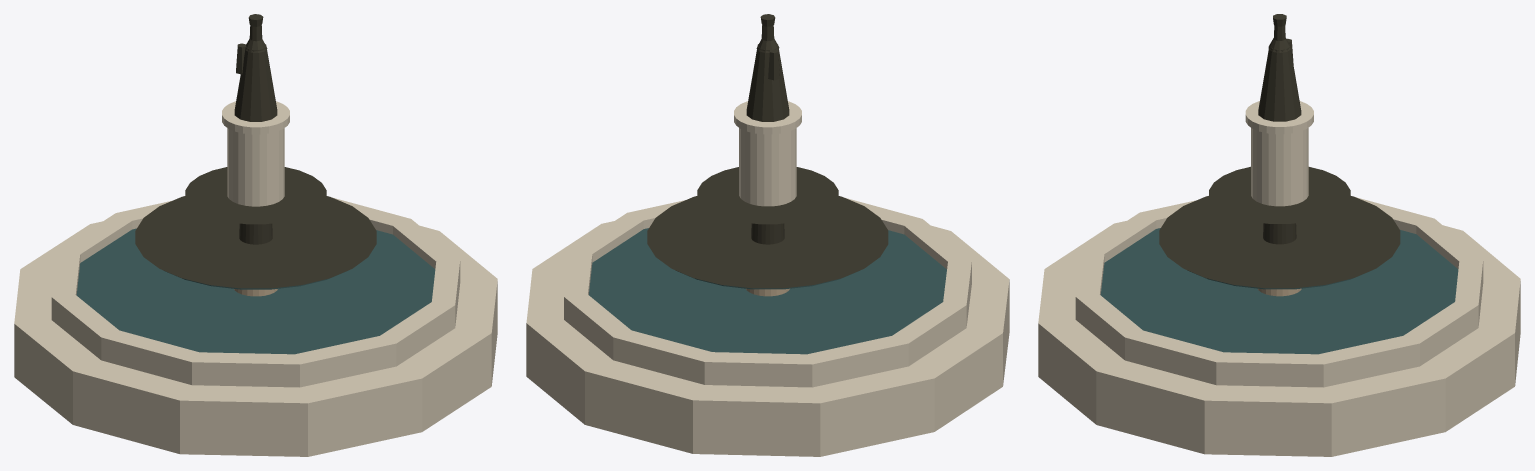
Rendered from marienbrunnen.glb.
The picture shows the model from 3 angles, left to right: view 1: azimuth 30°, elevation 25°; view 2: azimuth 150°, elevation 25°; view 3: azimuth 270°, elevation 25°; orthographic projection.
Visible parts, largest first — view 1: marienbrunnen_lod0; view 2: marienbrunnen_lod0; view 3: marienbrunnen_lod0.
Boxes of the visible parts, bbox=[...] form: marienbrunnen_lod0: bbox=[14, 14, 497, 456]; marienbrunnen_lod0: bbox=[526, 14, 1009, 456]; marienbrunnen_lod0: bbox=[1038, 14, 1520, 456].
Size of what is drawn, in the model's own units: 9.15 by 7.05 by 9.13.
